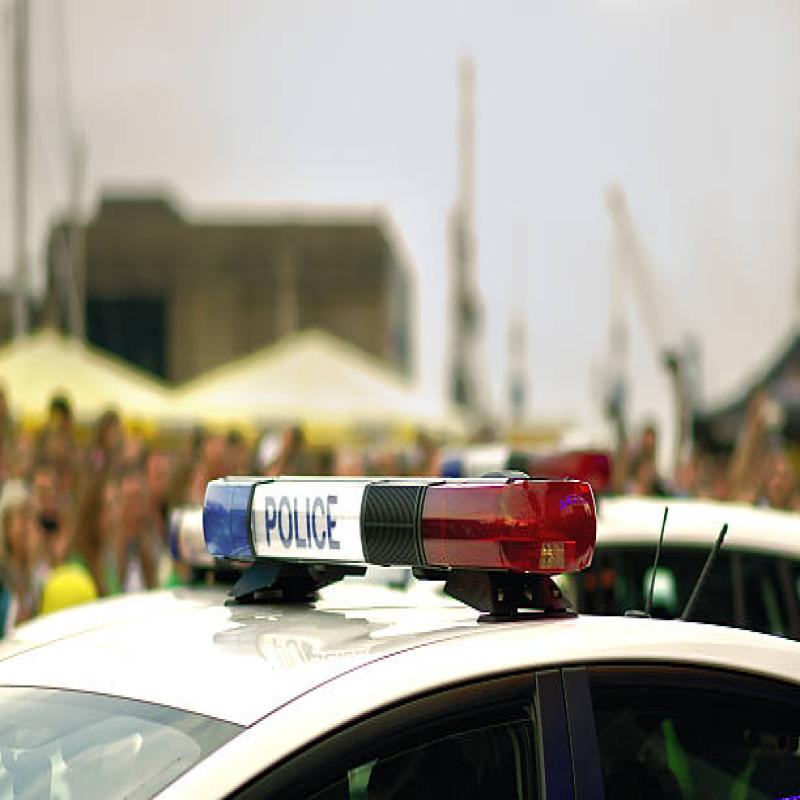AmbulanceSiren: (194, 438, 599, 618)
